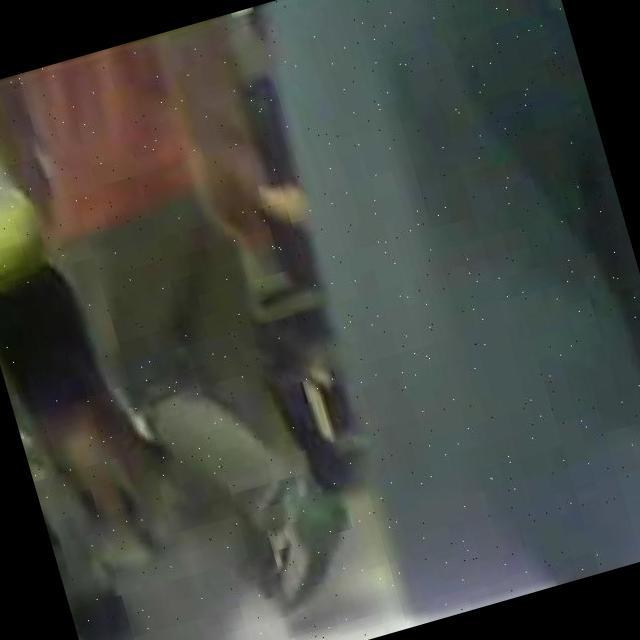person: (153, 0, 640, 640), (15, 26, 346, 632), (0, 65, 185, 582)
